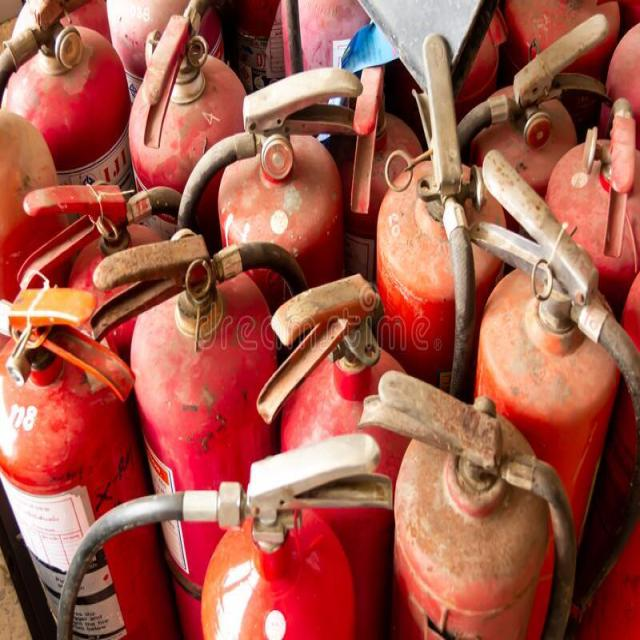fire_extinguisher: (170, 63, 368, 593), (426, 11, 619, 549), (8, 170, 230, 619), (84, 232, 326, 639), (366, 19, 516, 639), (456, 140, 639, 639), (0, 0, 156, 533), (120, 6, 262, 590), (51, 424, 398, 639), (0, 277, 194, 638), (500, 93, 639, 587), (308, 51, 434, 594), (256, 272, 429, 638), (356, 361, 582, 639)
